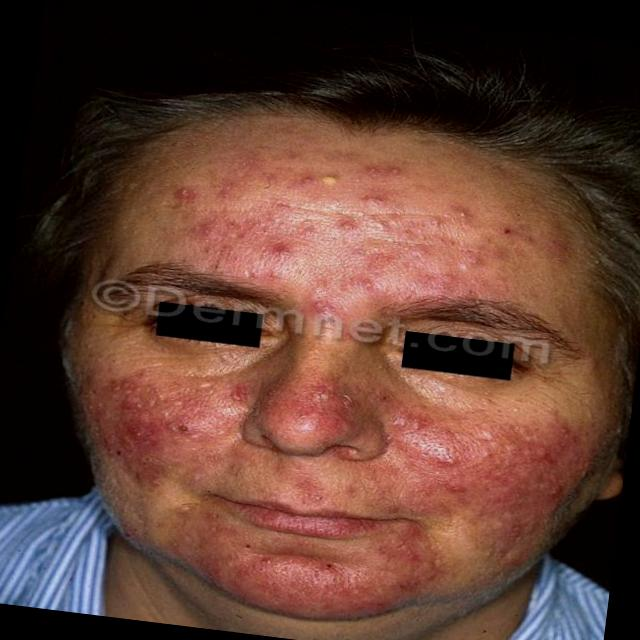skinredness: (83, 130, 558, 587)
